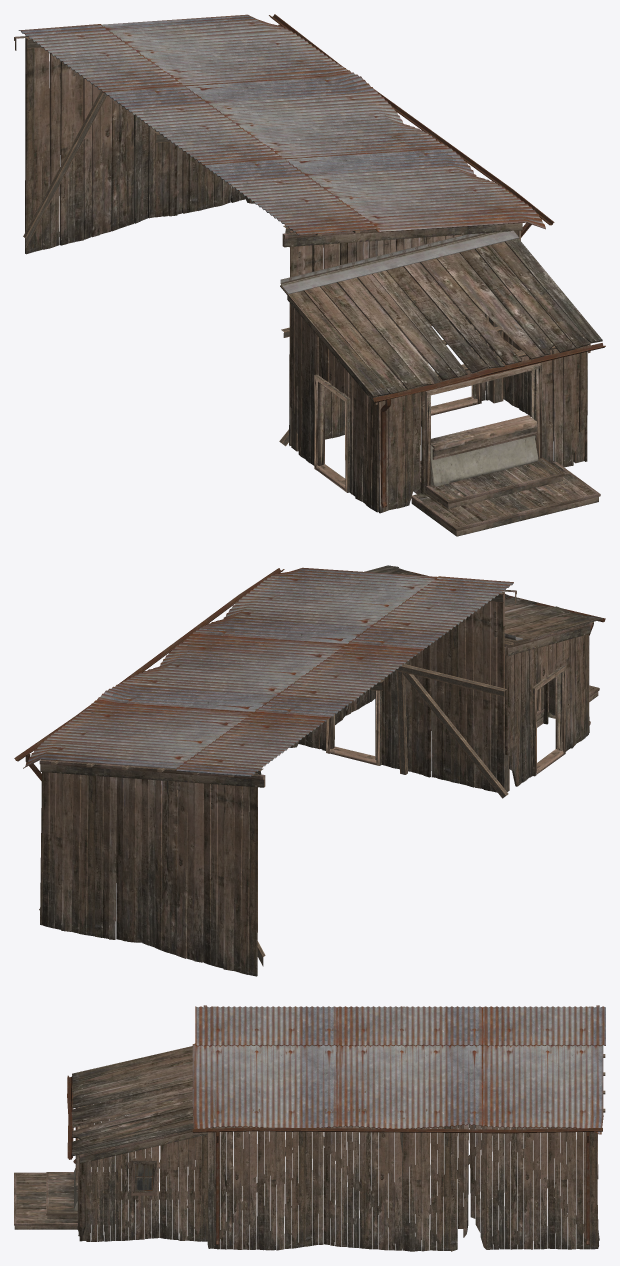
File: wooden_building_f_shop.glb
3 renders of one model, top to bottom at view 1: azimuth 30°, elevation 25°; view 2: azimuth 150°, elevation 25°; view 3: azimuth 270°, elevation 25°, orthographic. The views are drawn at different scales.
Visible parts, largest first — view 1: wooden_building_f_shop_LOD0; view 2: wooden_building_f_shop_LOD0; view 3: wooden_building_f_shop_LOD0.
Boxes of the visible parts, box(x1,y1,x2,y2) form: wooden_building_f_shop_LOD0: box(14, 14, 605, 536); wooden_building_f_shop_LOD0: box(14, 565, 605, 976); wooden_building_f_shop_LOD0: box(14, 1005, 605, 1251).
Size of the model in its own units: 6.94 by 5.5 by 18.34.
7 materials, 7 textured.
